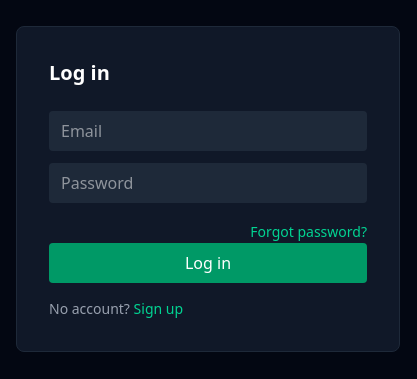
Test: LoginPage › shows a validation error for an invalid email
This screenshot has width=417, height=379.
Type "not-an-email" into the field with placeholder "Email".
click(208, 131); type("not-an-email")  # box left=49, top=111, right=367, bottom=151
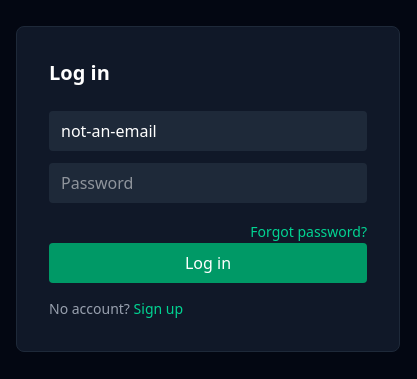
Type "somepassword" into the password field with placeholder "Password".
click(208, 183); type("somepassword")  # box left=49, top=163, right=367, bottom=203
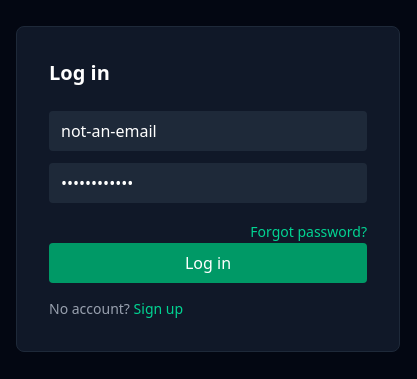
Click the button "Log in".
click(208, 263)  # box left=49, top=243, right=367, bottom=283
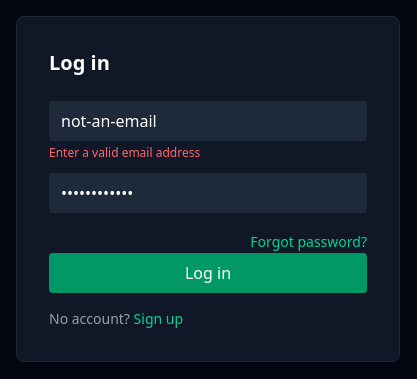
Expected: the text "Enter a valid email address" is shown, left=49, top=144, right=200, bottom=161
